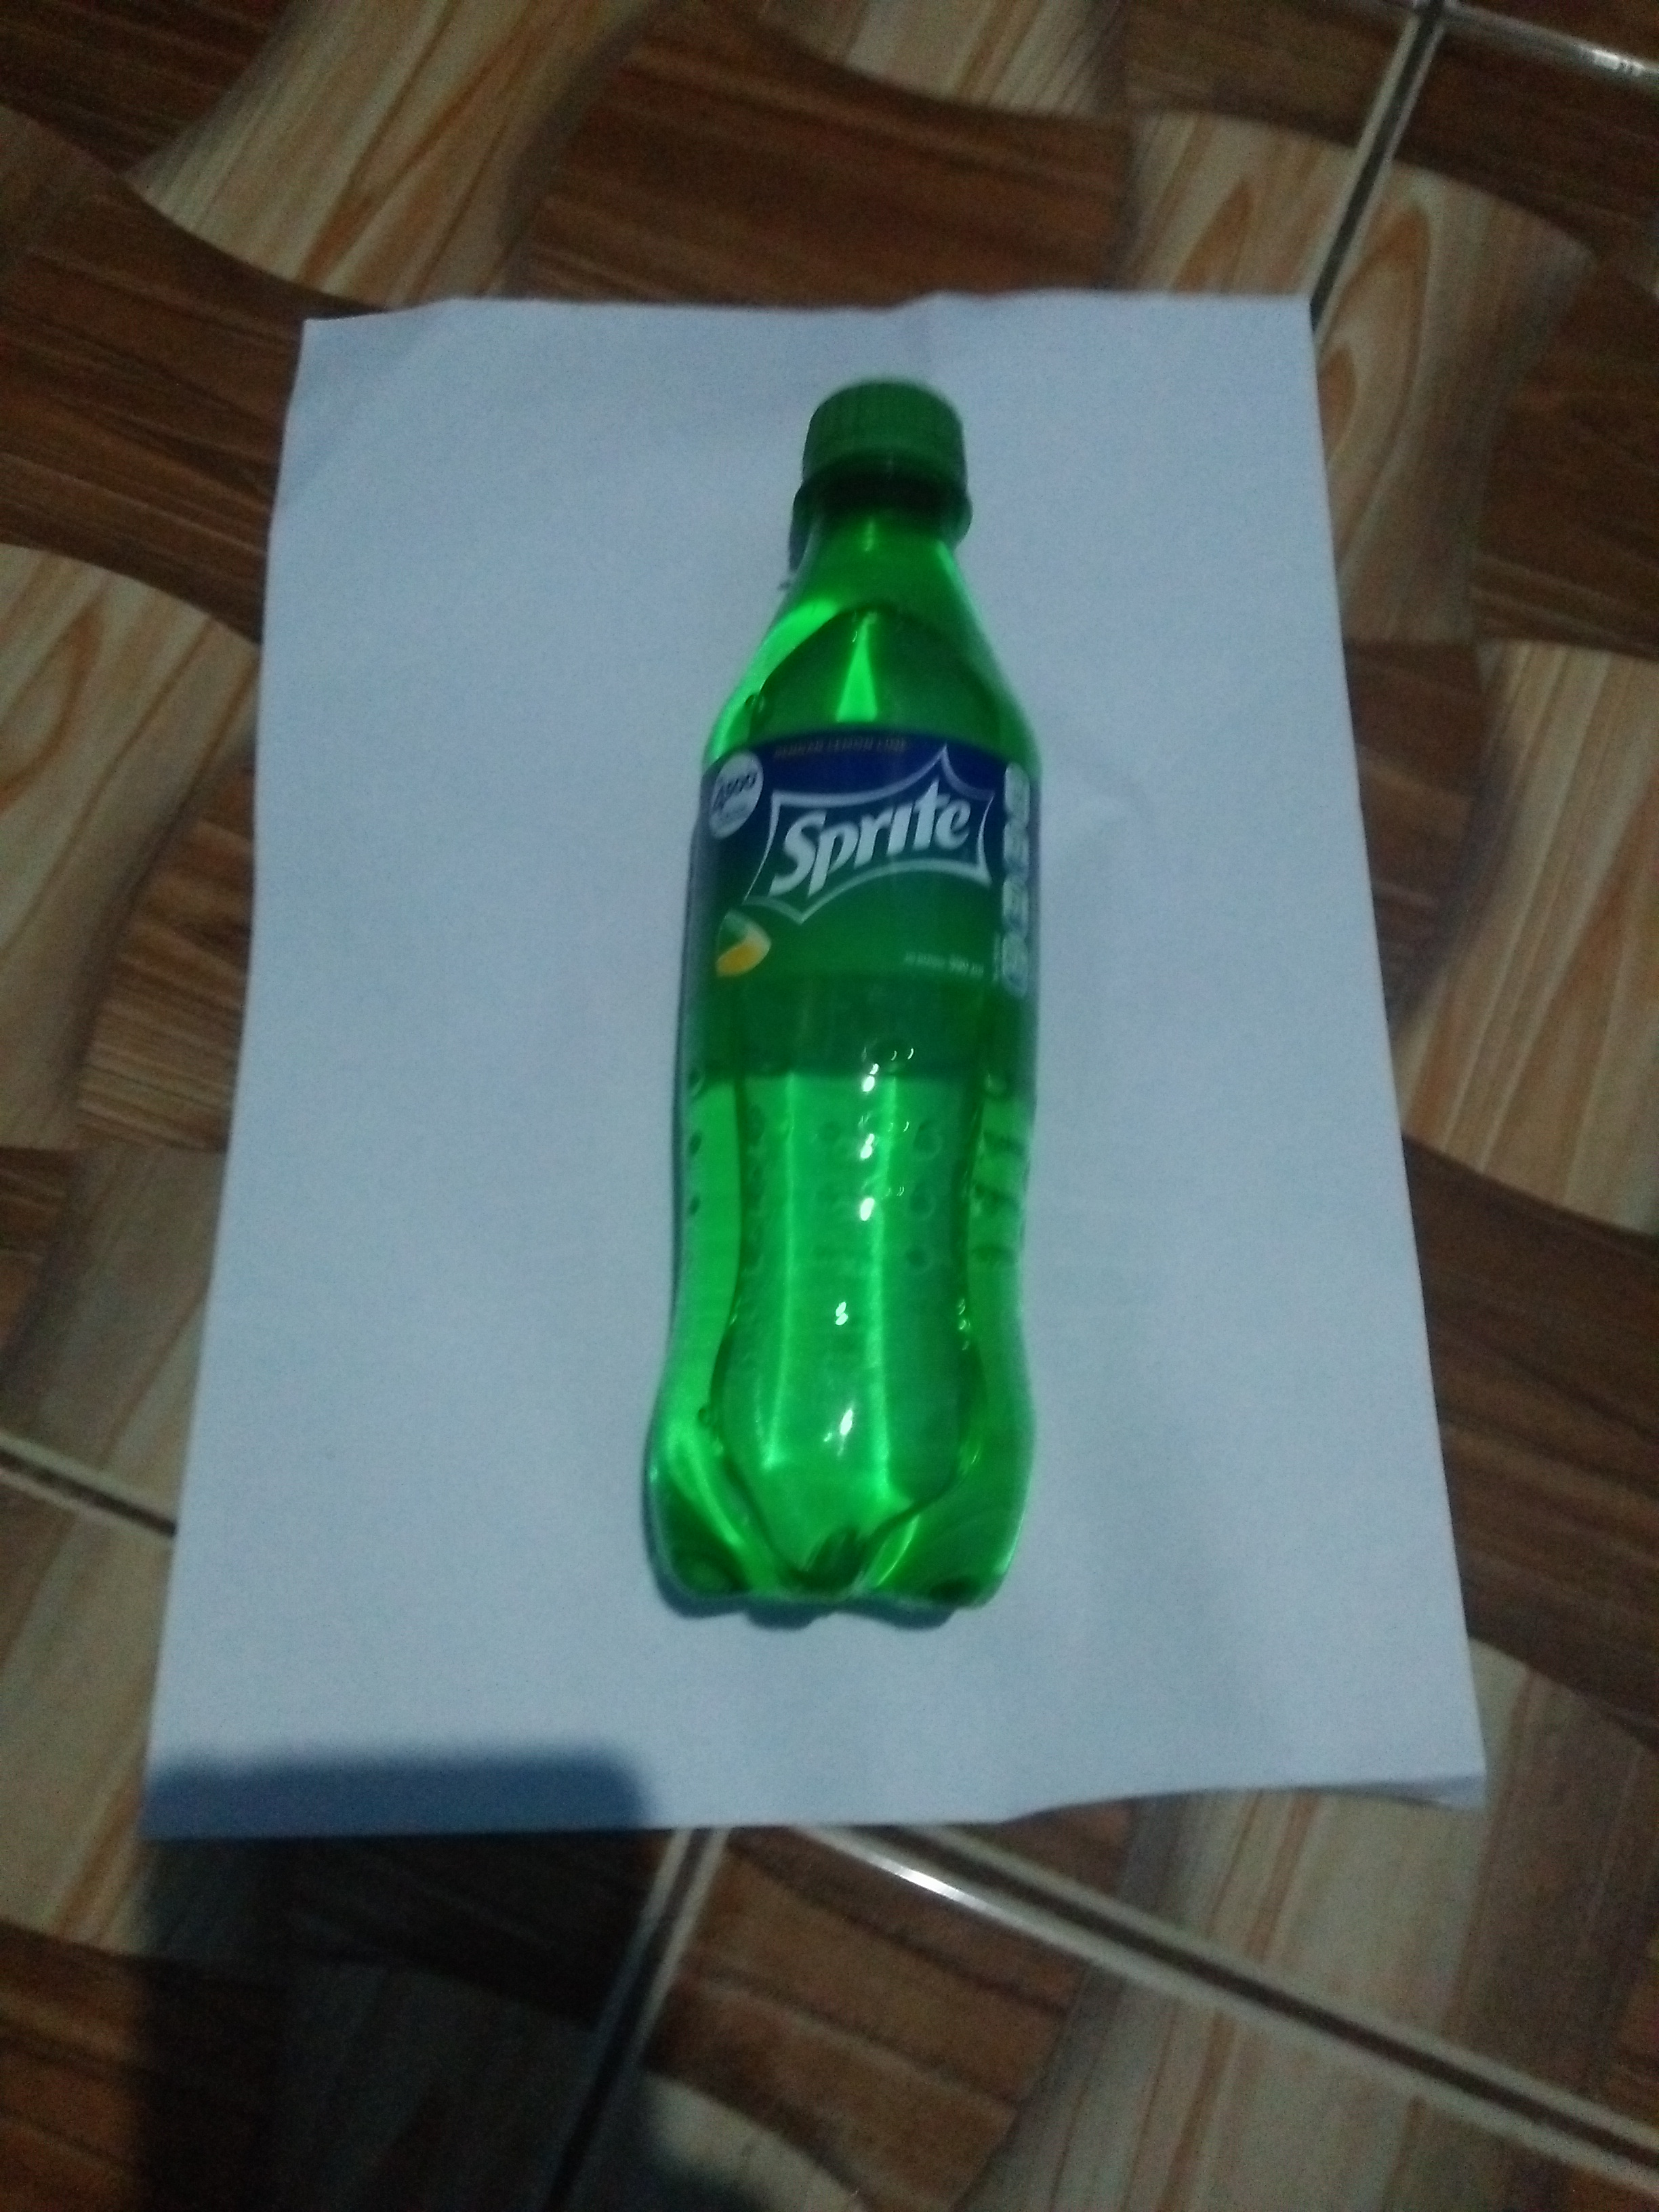Sprite: (641, 376, 1082, 1684)
